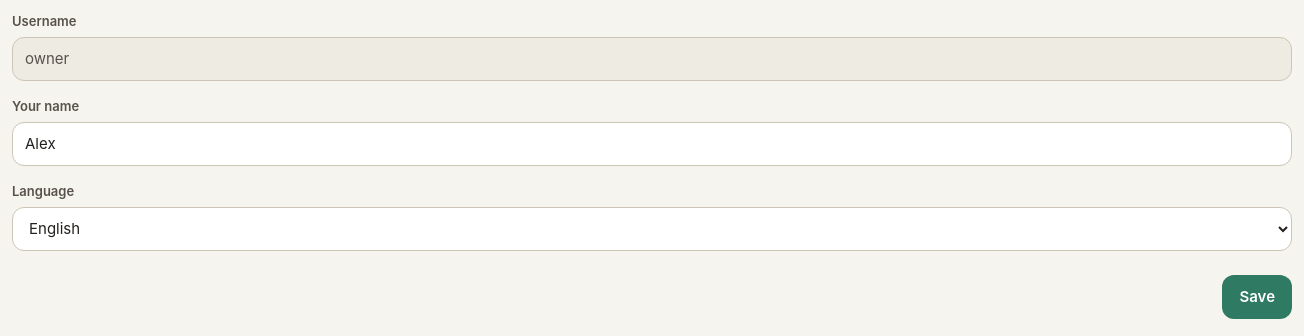
Scenario: AccountForm › saves the name and the language
Replace the text in the field labelled "Your name" with " Alex Doe " at (652, 144), box [12,122,1292,166]
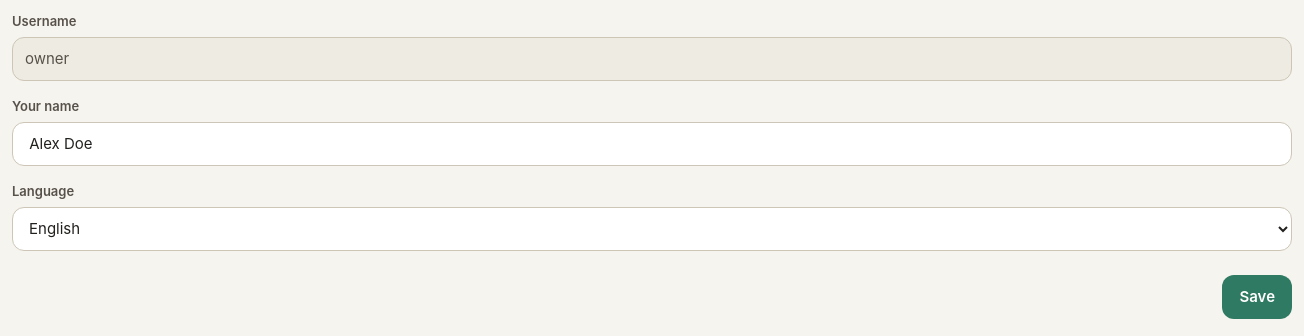
Select "Русский" in the dropdown labelled "Language" at (652, 228), box [12,206,1292,250]
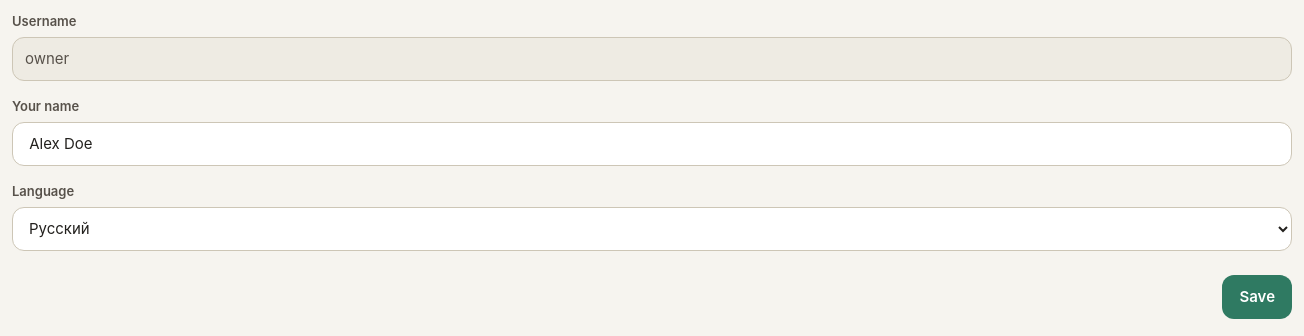
Click the button "Save".
click(1257, 296)  # box [1222,274,1292,318]
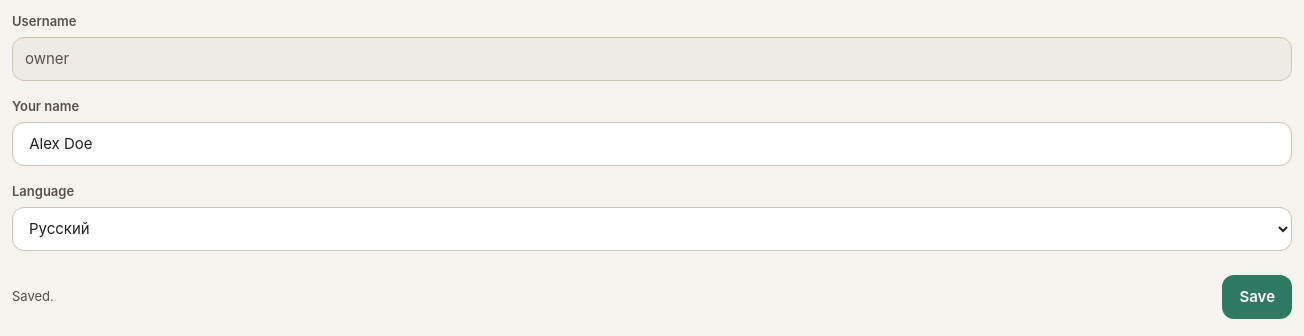
Check: the message reads "Saved.", box [12,288,54,304]
